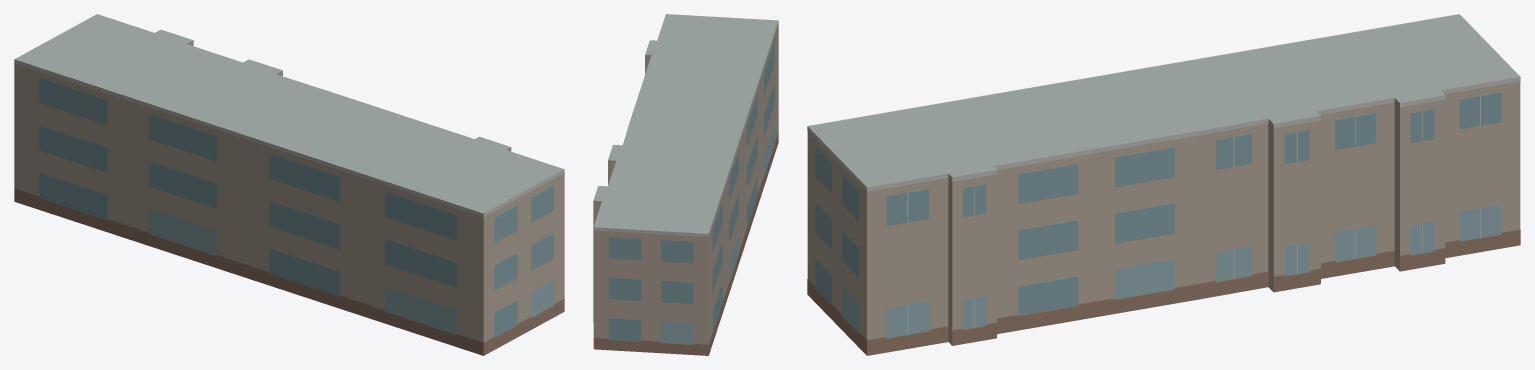
The model's file is survey-upis-32775380.glb.
3 renders of one model, left to right at view 1: azimuth 30°, elevation 25°; view 2: azimuth 150°, elevation 25°; view 3: azimuth 270°, elevation 25°, orthographic. The views are drawn at different scales.
Visible parts, largest first — view 1: survey-upis-32775380.tmp; view 2: survey-upis-32775380.tmp; view 3: survey-upis-32775380.tmp.
Boxes of the visible parts, left/top/right/bottom form: survey-upis-32775380.tmp: left=14, top=14, right=564, bottom=355; survey-upis-32775380.tmp: left=593, top=14, right=778, bottom=355; survey-upis-32775380.tmp: left=807, top=14, right=1520, bottom=355.
Size of the model in its own units: 20.21 by 9.15 by 35.1.
